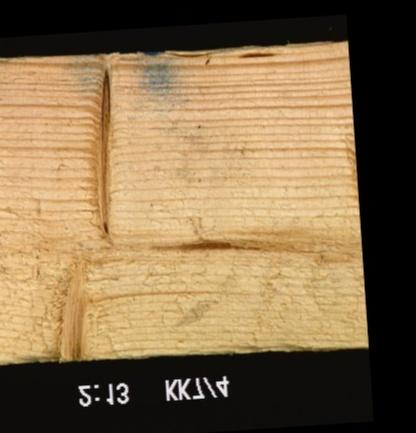split: (280, 243, 359, 267)
